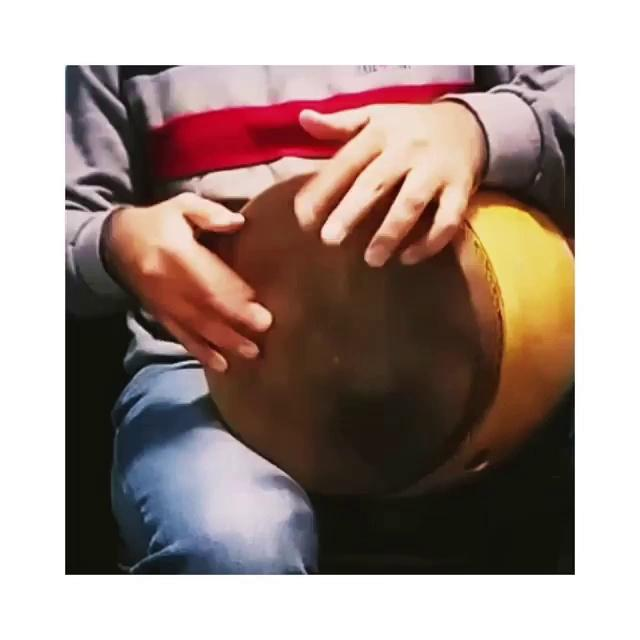Tombak: (211, 184, 571, 499)
